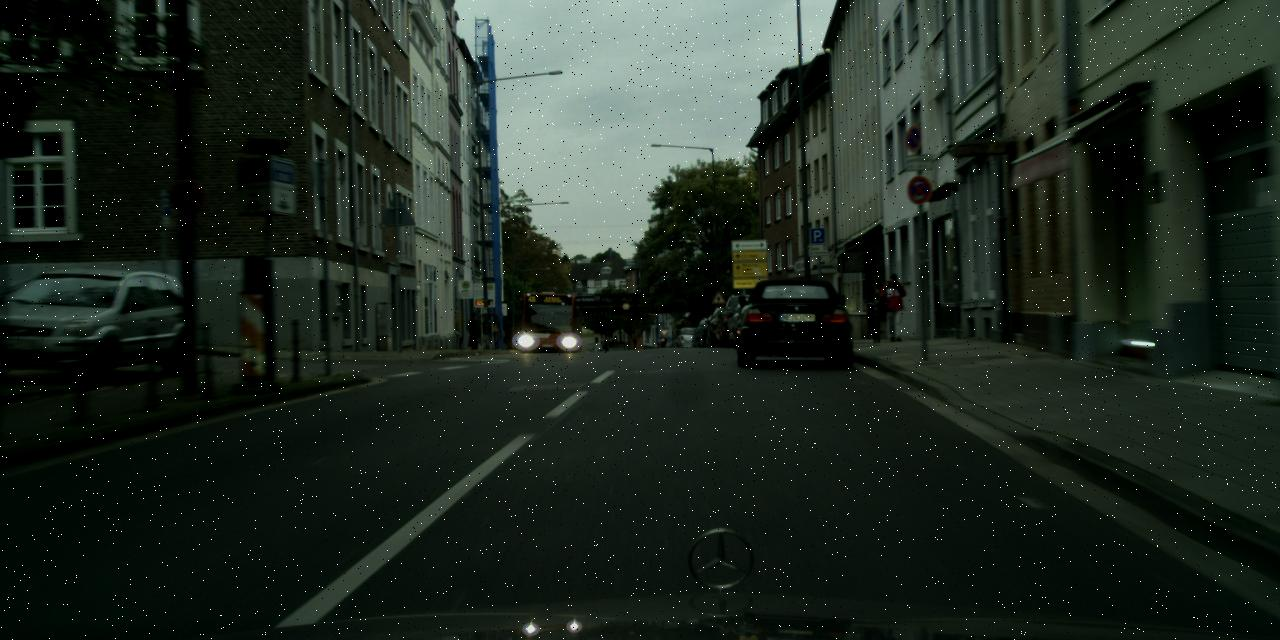ped: (880, 274, 908, 342), (466, 312, 480, 350)
